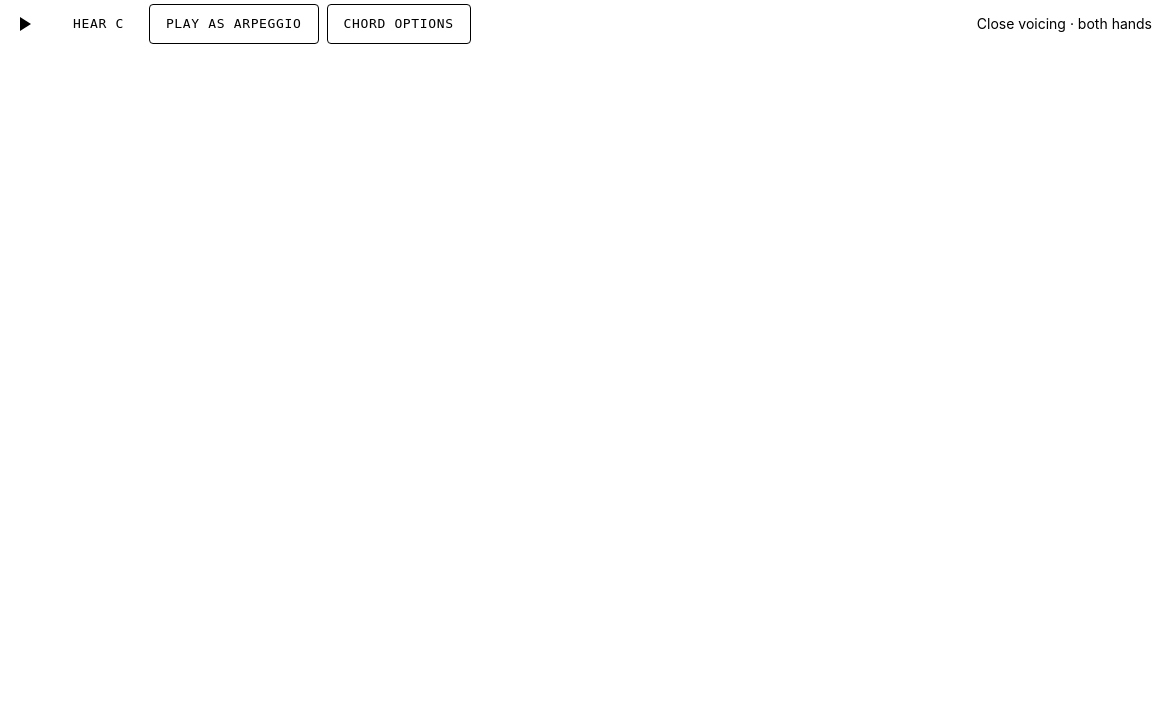
PlaybackBar status and Chord options › opens voicing and hand arrangement, and returns focus on close (S4c, E5b)
This screenshot has width=1152, height=720.
Click the button "Chord options": (399, 24) [326,4,471,44]
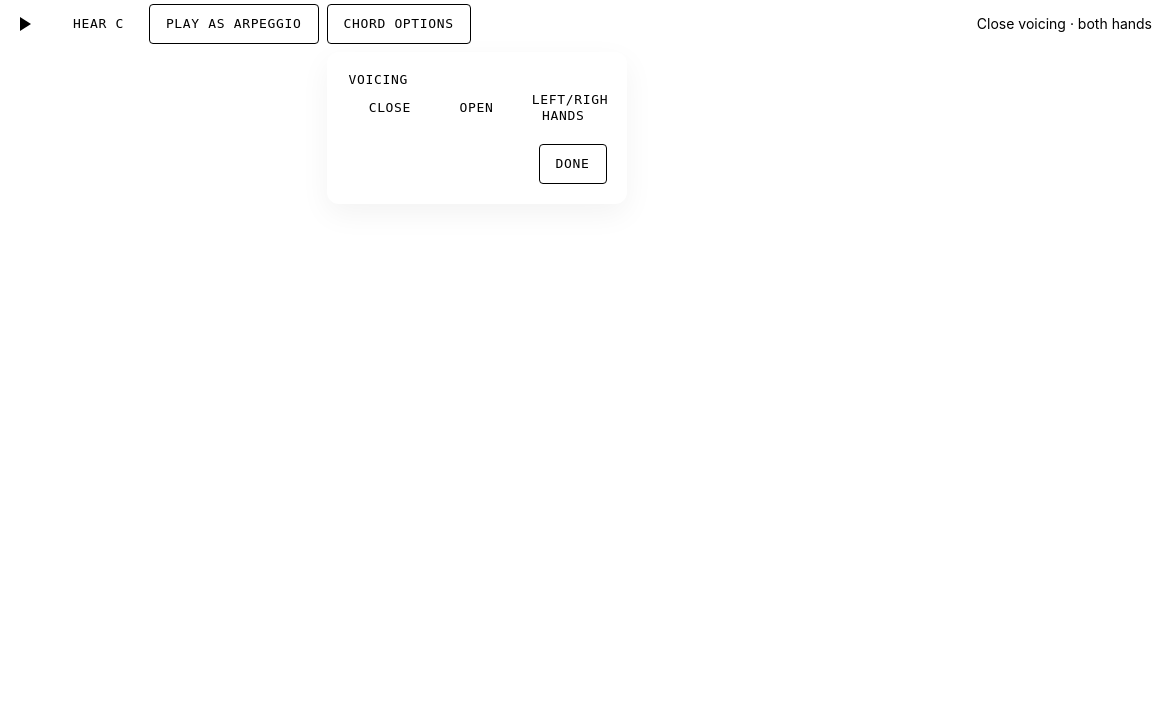
Click the radio button labelled "Left/Right hands": (563, 108) [520,88,607,128]
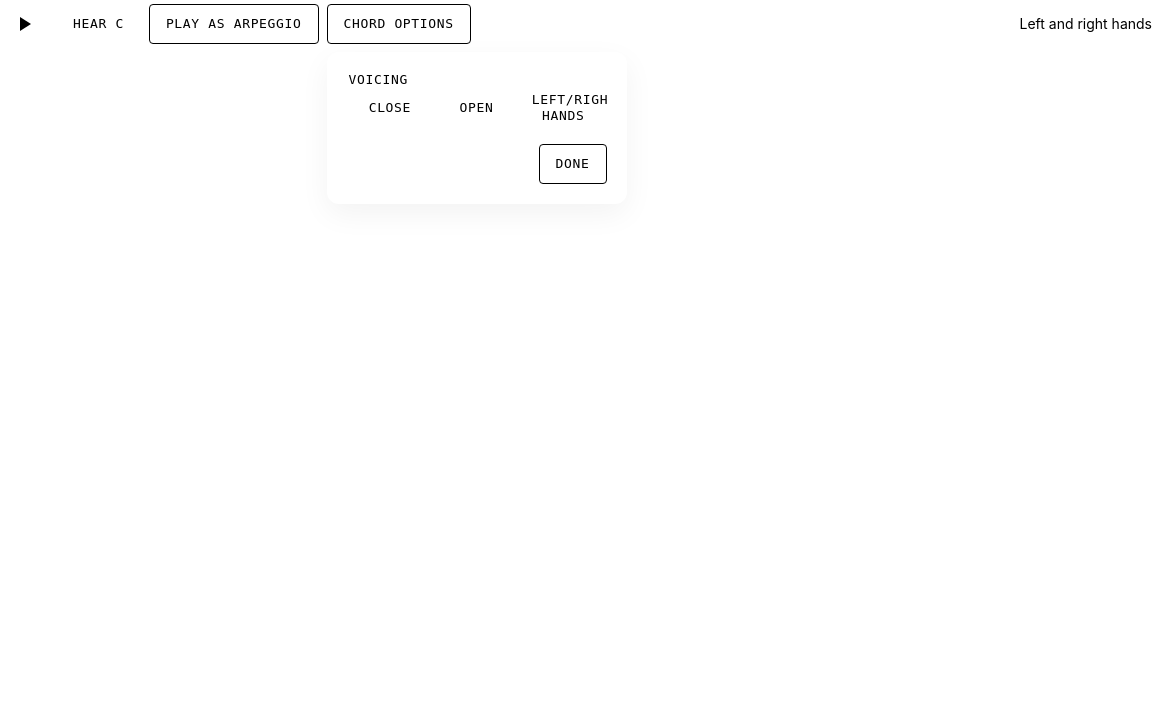
Click the button "Done": (573, 164) [539,144,606,184]
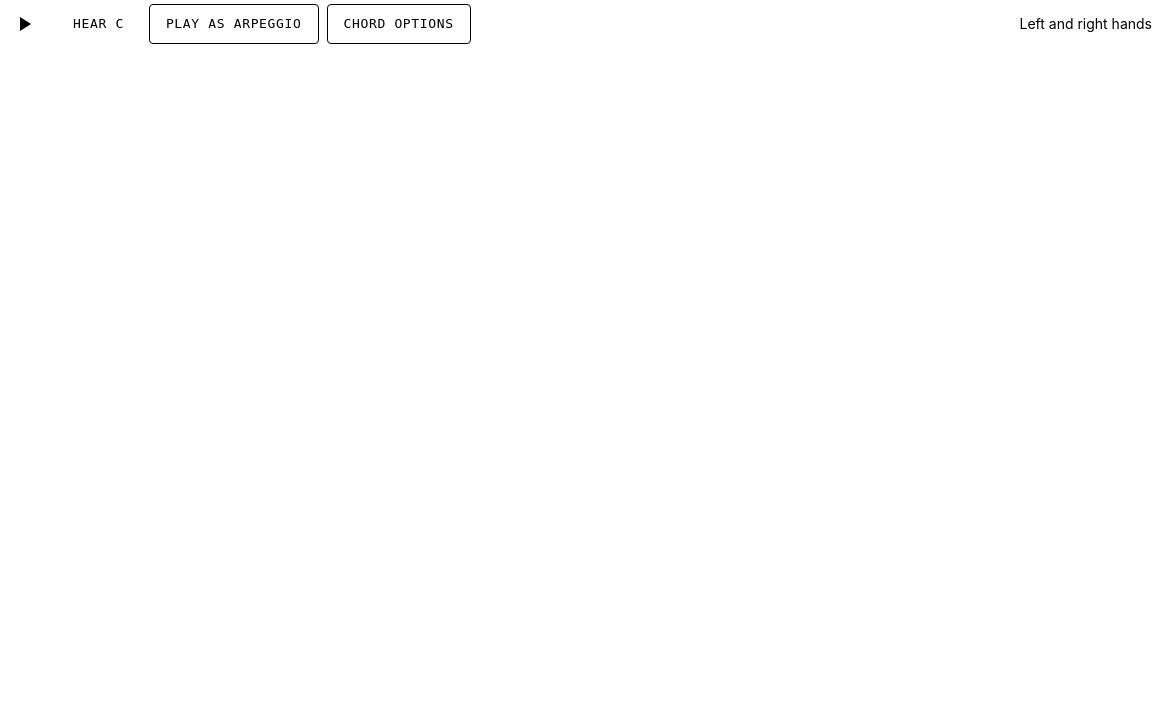
Result: the dialog is gone
